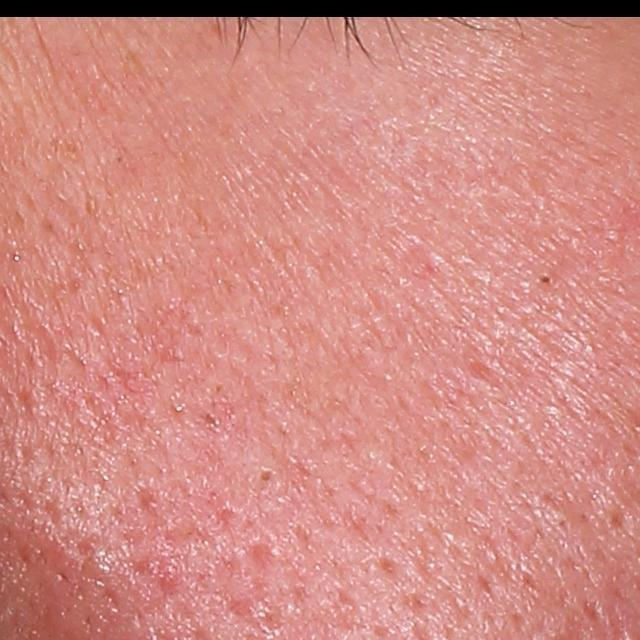atrophic_scar: (159, 513, 219, 554), (243, 537, 276, 570)
comedo: (255, 465, 273, 489), (538, 272, 555, 290)
